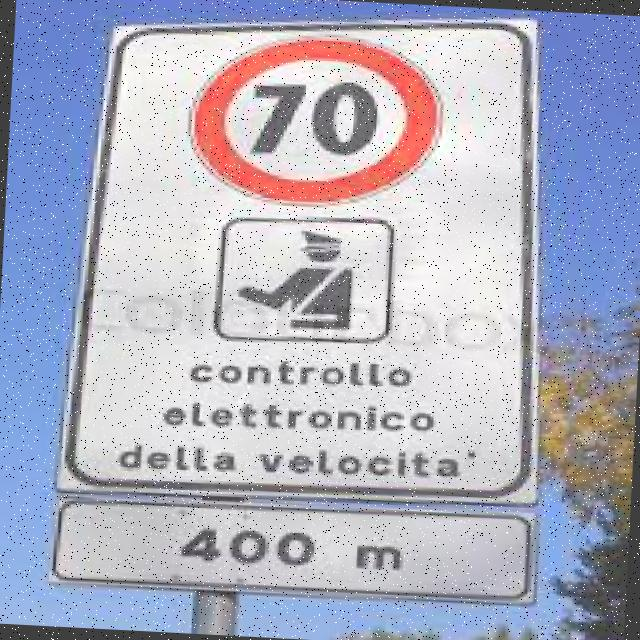Ograniczenie predkosci do 70: (184, 32, 451, 212)
